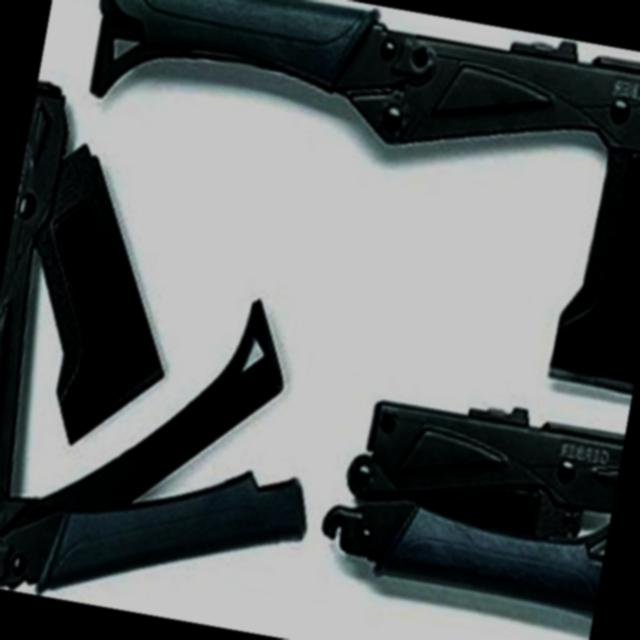ax: (38, 0, 640, 399), (0, 76, 379, 639)
